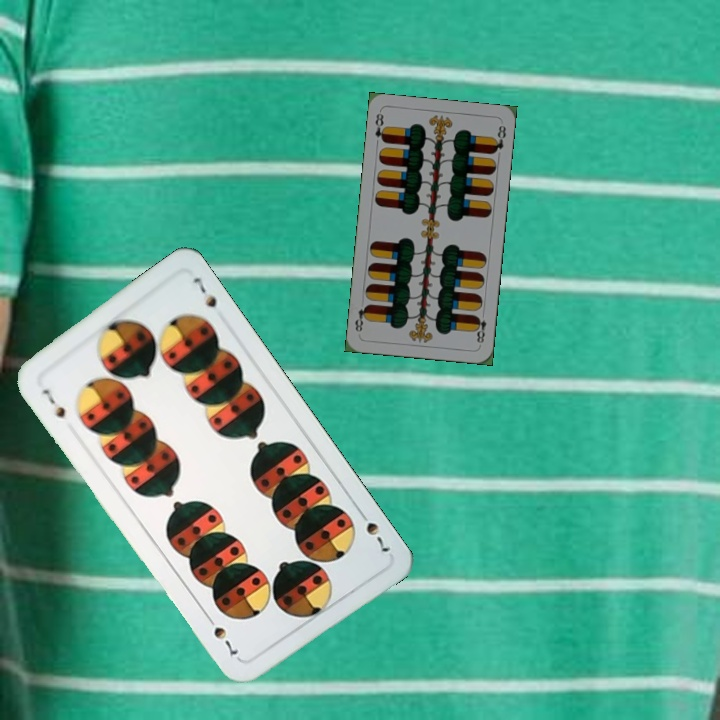E8: (471, 312, 489, 348), (371, 109, 389, 145)
S7: (354, 505, 394, 555), (38, 385, 68, 421)
